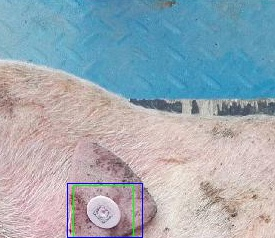text: (73, 185, 133, 237)
